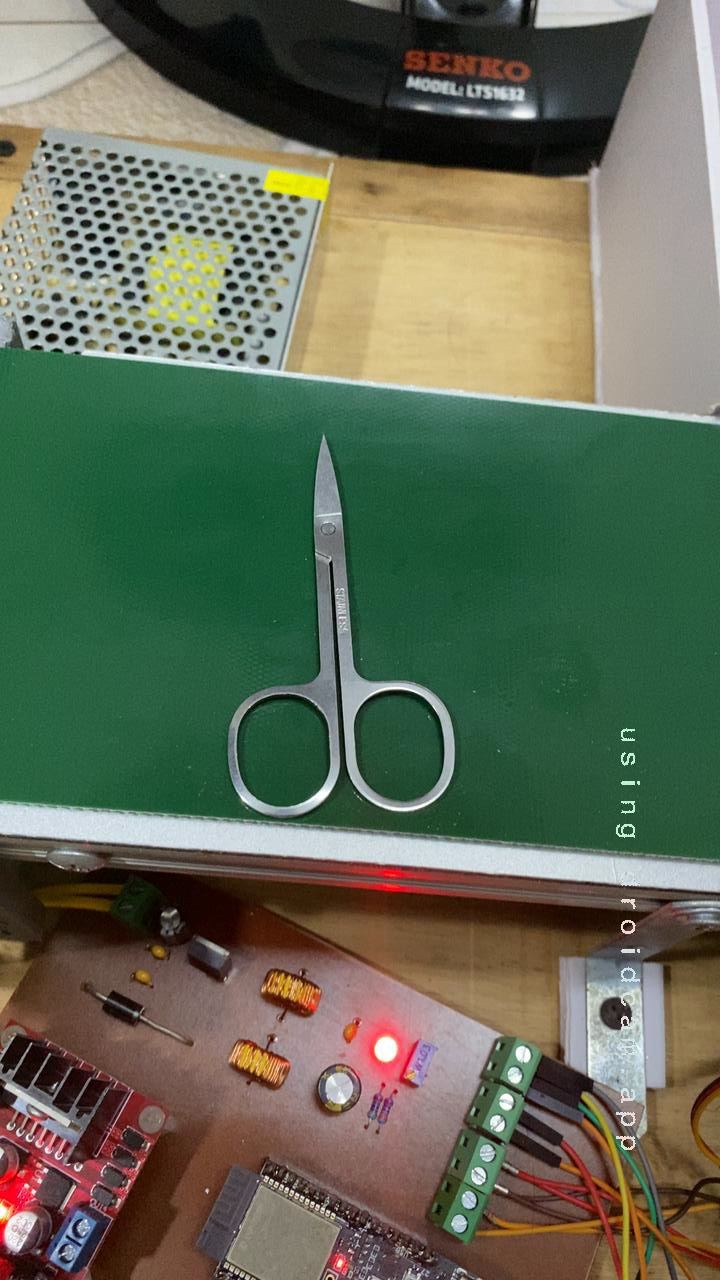scissor: (190, 425, 483, 837)
